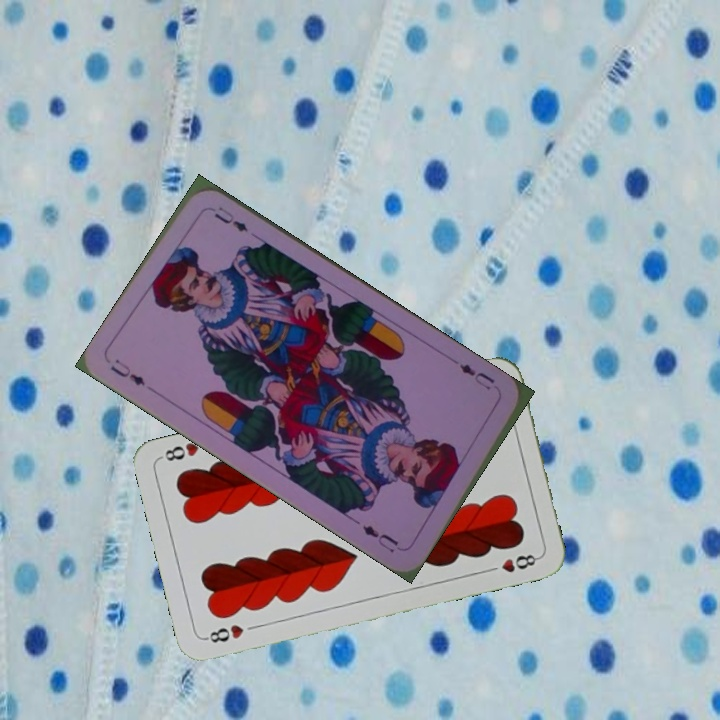EU: (455, 360, 497, 393), (106, 355, 148, 388)
H8: (201, 620, 247, 646)
